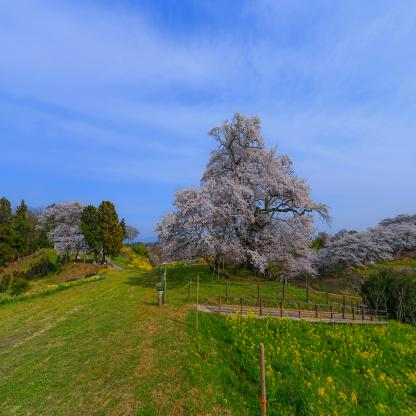EdohiganSakura: (152, 111, 334, 275)
